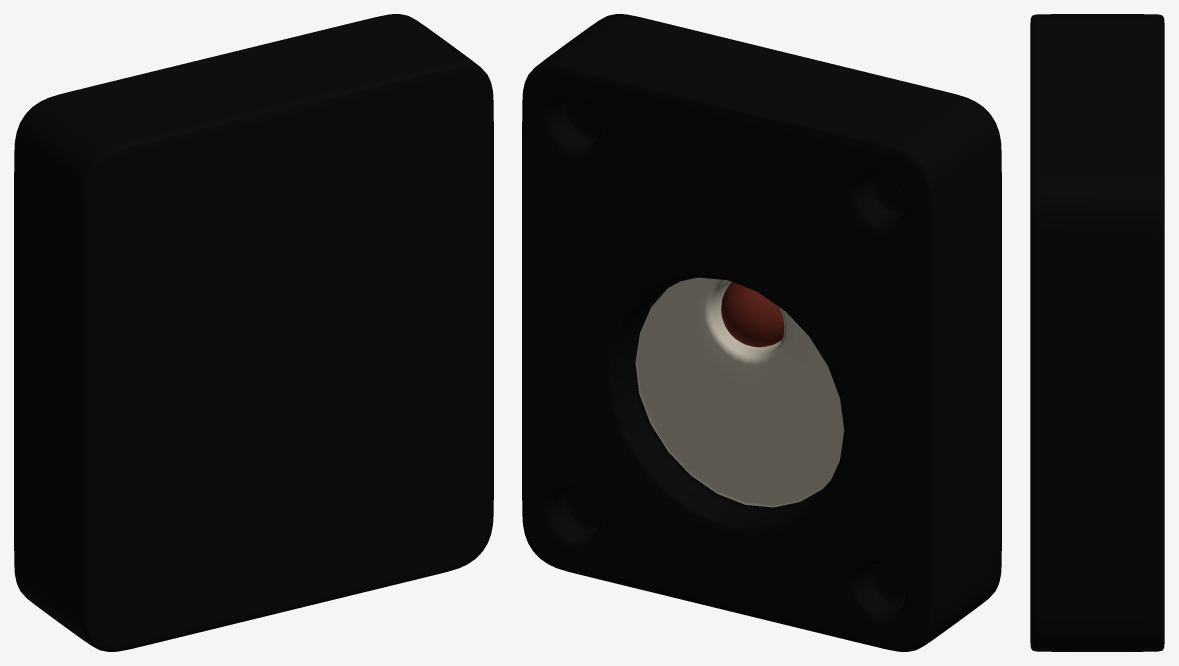
The model's file is 防爆呼唤按钮.glb.
3 views of the same model, side by side, from view 1: azimuth 30°, elevation 25°; view 2: azimuth 150°, elevation 25°; view 3: azimuth 270°, elevation 25° (orthographic). The views are drawn at different scales.
Parts seen in each view (by area): view 1: 47防爆呼唤按钮; view 2: 47防爆呼唤按钮, 球体.026; view 3: 47防爆呼唤按钮.
Boxes of the visible parts, x1,y1,x2,y2 form: 47防爆呼唤按钮: [14, 14, 493, 651]; 47防爆呼唤按钮: [522, 14, 1001, 651]; 球体.026: [721, 282, 784, 347]; 47防爆呼唤按钮: [1030, 14, 1164, 651].
Bounding box in the file's own units: 0.108 × 0.1267 × 0.0323.
